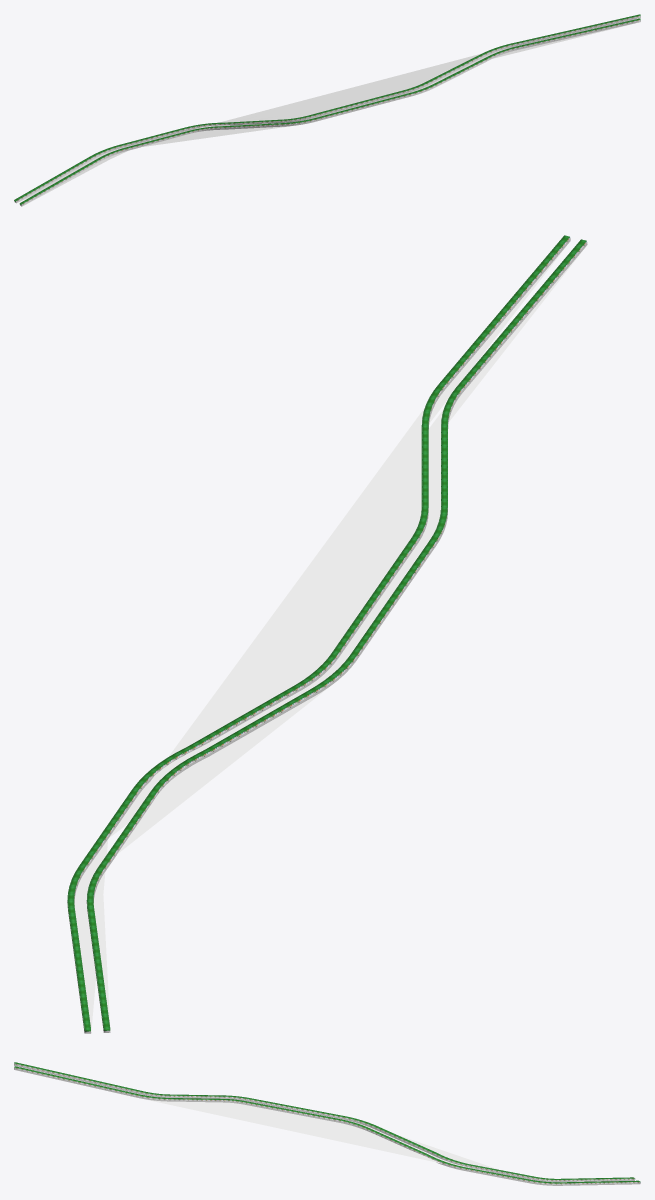
The model's file is Test_Kabe.fbx.
The picture shows the model from 3 angles, top to bottom: view 1: azimuth 90°, elevation 25°; view 2: azimuth 150°, elevation 25°; view 3: azimuth 270°, elevation 25°; orthographic projection. The views are drawn at different scales.
Visible parts, largest first — view 1: OBJ_GuardMat; view 2: OBJ_GuardMat; view 3: OBJ_GuardMat.
Part boxes in pixels (x1,y1,x2,y2): OBJ_GuardMat: (14,14,640,206); OBJ_GuardMat: (67,235,587,1033); OBJ_GuardMat: (14,1062,640,1185).
Bounding box in the file's own units: 73.03 × 129 × 481.
Materials: 1 (1 with a texture image).
